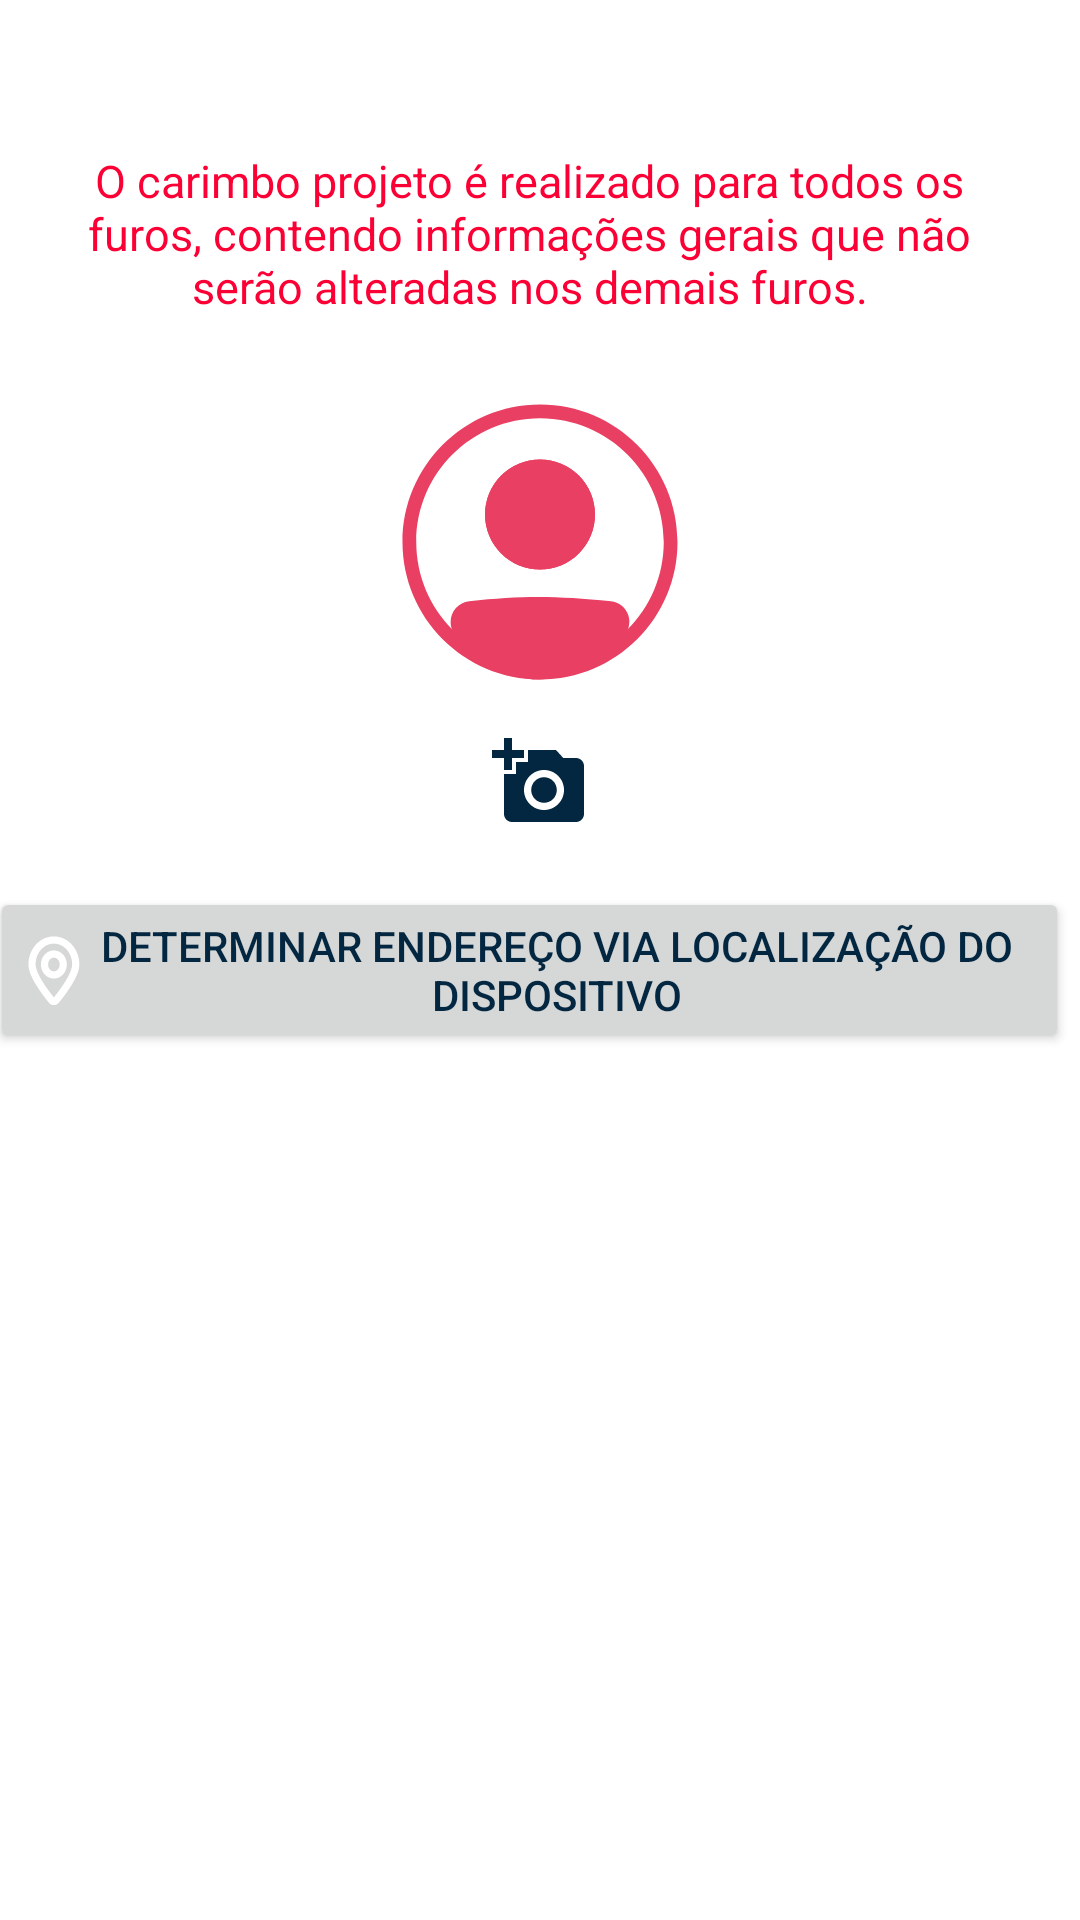

Icon bounding boxes for this 1080px×1920px phone screenshot, format (x1, y1, x2, y2):
photo: (492, 738, 584, 822)
profile: (402, 404, 678, 680)
